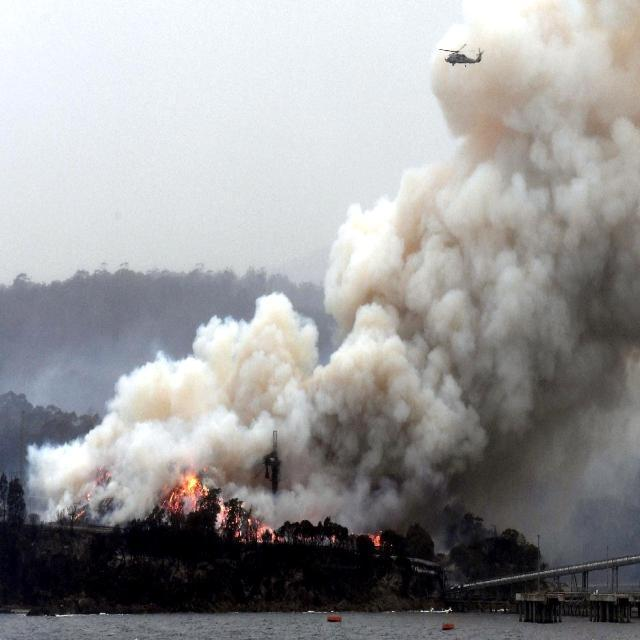Fire: (166, 466, 239, 539)
Smoke: (325, 0, 640, 517), (25, 282, 339, 524)
